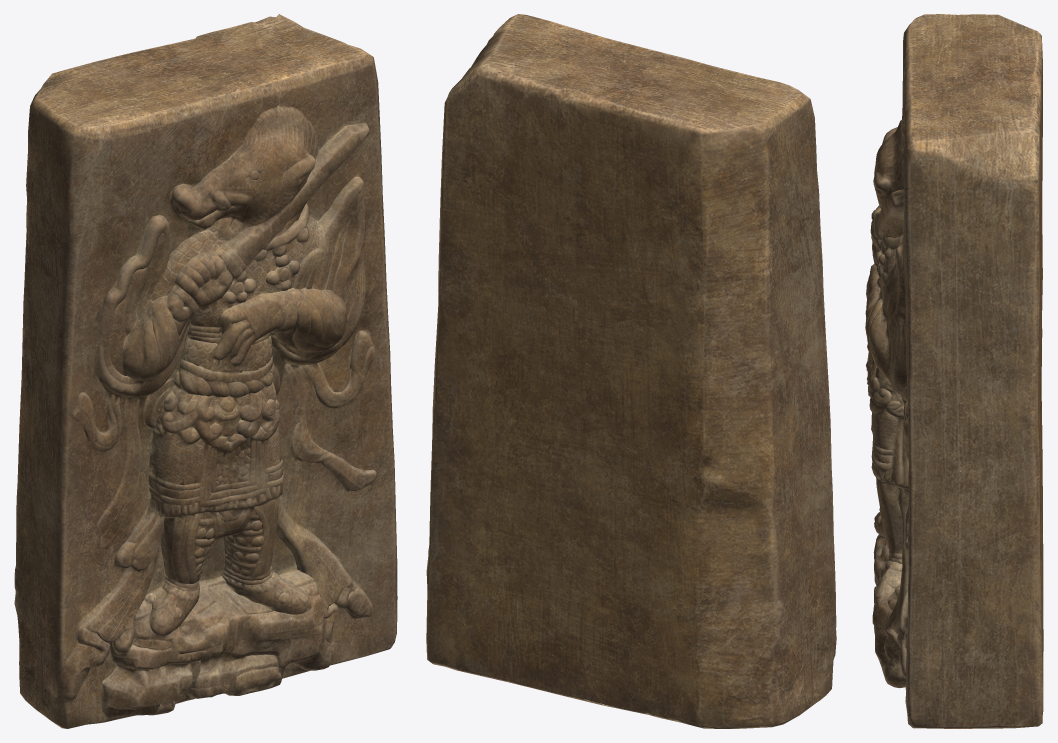
File: Pig_12_3D_02_Pub.glb
3 renders of one model, left to right at view 1: azimuth 30°, elevation 25°; view 2: azimuth 150°, elevation 25°; view 3: azimuth 270°, elevation 25°, orthographic. The views are drawn at different scales.
Visible parts, largest first — view 1: SM_ShillaSoapstonePigStatue_01_cage; view 2: SM_ShillaSoapstonePigStatue_01_cage; view 3: SM_ShillaSoapstonePigStatue_01_cage.
Part boxes in pixels (x1=…): SM_ShillaSoapstonePigStatue_01_cage: x1=14, y1=14, x2=397, y2=728; SM_ShillaSoapstonePigStatue_01_cage: x1=426, y1=14, x2=836, y2=728; SM_ShillaSoapstonePigStatue_01_cage: x1=865, y1=14, x2=1043, y2=728.
Bounding box in the file's own units: 0.2906 × 0.4898 × 0.1372.
Materials: 1 (1 with a texture image).
